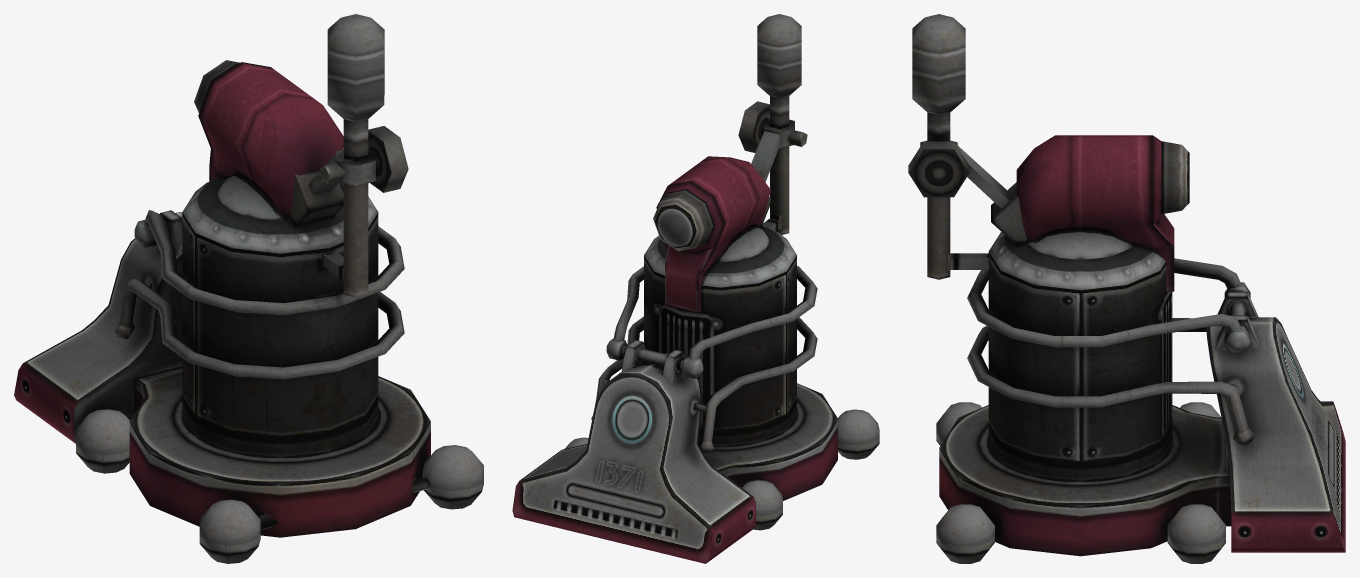
Rendered from VacuumExploded.fbx.
3 renders of one model, left to right at view 1: azimuth 30°, elevation 25°; view 2: azimuth 150°, elevation 25°; view 3: azimuth 270°, elevation 25°, orthographic. The views are drawn at different scales.
Parts seen in each view (by area): view 1: Vacum_Bot.012, Vacum_Bot.007, Vacum_Bot.001, Vacum_Bot.006, Vacum_Bot.009, Vacum_Bot.018, Vacum_Bot, Vacum_Bot.004, Vacum_Bot.002, Vacum_Bot.005, Vacum_Bot.015; view 2: Vacum_Bot.007, Vacum_Bot.012, Vacum_Bot.001, Vacum_Bot.006, Vacum_Bot.009, Vacum_Bot.018, Vacum_Bot.004, Vacum_Bot, Vacum_Bot.015, Vacum_Bot.005; view 3: Vacum_Bot.012, Vacum_Bot.007, Vacum_Bot.001, Vacum_Bot.006, Vacum_Bot.018, Vacum_Bot.009, Vacum_Bot.003, Vacum_Bot.002, Vacum_Bot.015, Vacum_Bot, Vacum_Bot.004.
Boxes of the visible parts, x1,y1,x2,y2 form: Vacum_Bot.012: (129,174,430,537); Vacum_Bot.007: (14,210,182,443); Vacum_Bot.001: (194,60,343,217); Vacum_Bot.006: (327,14,384,297); Vacum_Bot.009: (115,279,404,379); Vacum_Bot.018: (144,210,404,315); Vacum_Bot: (290,149,375,226); Vacum_Bot.004: (199,499,260,563); Vacum_Bot.002: (422,445,483,509); Vacum_Bot.005: (76,409,129,473); Vacum_Bot.015: (320,126,408,192); Vacum_Bot.007: (512,338,755,563); Vacum_Bot.012: (644,218,837,500); Vacum_Bot.001: (653,156,770,313); Vacum_Bot.006: (757,14,801,234); Vacum_Bot.009: (591,316,817,453); Vacum_Bot.018: (614,266,817,360); Vacum_Bot.004: (838,409,879,459); Vacum_Bot: (751,119,794,227); Vacum_Bot.015: (738,101,807,152); Vacum_Bot.005: (742,480,782,530); Vacum_Bot.012: (939,230,1231,556); Vacum_Bot.007: (1206,282,1345,552); Vacum_Bot.001: (1016,135,1189,291); Vacum_Bot.006: (912,14,965,279); Vacum_Bot.018: (967,258,1241,347); Vacum_Bot.009: (967,318,1253,445); Vacum_Bot.003: (1167,504,1225,563); Vacum_Bot.002: (936,504,994,563); Vacum_Bot.015: (908,141,969,197); Vacum_Bot: (920,140,1027,245); Vacum_Bot.004: (936,402,981,445).
Size of the model in its own units: 6738 by 12265 by 9913.
Materials: 1 (1 with a texture image).
